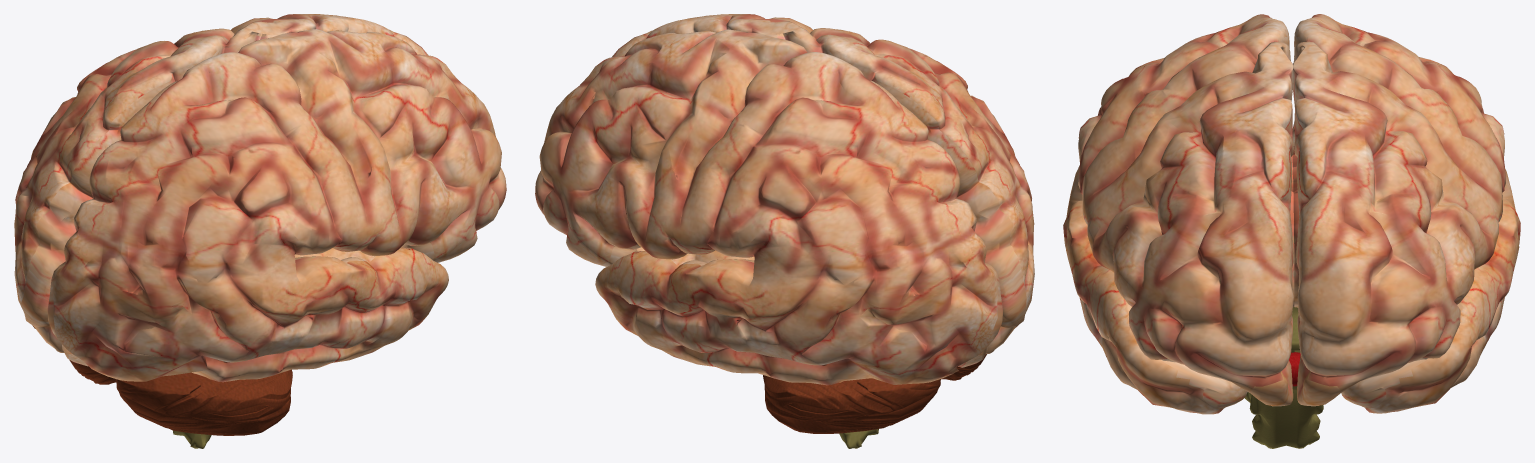
The picture shows the model from 3 angles, left to right: view 1: azimuth 30°, elevation 25°; view 2: azimuth 150°, elevation 25°; view 3: azimuth 270°, elevation 25°; orthographic projection. The views are drawn at different scales.
Visible parts, largest first — view 1: Brain; view 2: Brain; view 3: Brain.
Boxes of the visible parts, bbox=[...] form: Brain: bbox=[14, 14, 506, 448]; Brain: bbox=[535, 14, 1034, 448]; Brain: bbox=[1063, 14, 1520, 448].
Size of the model in its own units: 8.06 by 6.8 by 6.47.
1 material, 1 textured.
